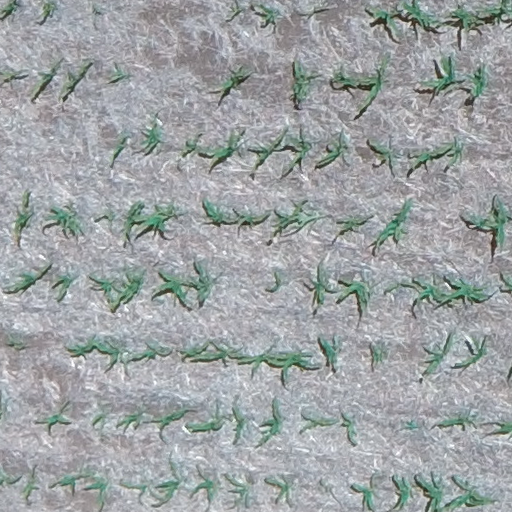planta: (231, 343, 290, 378), (371, 199, 414, 247), (355, 55, 389, 114), (270, 200, 321, 239), (262, 350, 313, 387), (386, 276, 452, 304), (107, 267, 145, 313), (141, 408, 188, 444), (199, 131, 242, 169), (436, 275, 489, 305), (420, 55, 459, 94), (250, 131, 286, 172), (153, 269, 193, 305), (186, 341, 250, 363), (421, 334, 454, 376), (135, 203, 178, 234), (337, 276, 373, 313), (120, 199, 150, 242), (91, 274, 126, 310), (46, 204, 84, 237), (455, 333, 489, 369), (257, 398, 283, 445), (410, 143, 455, 170), (289, 59, 317, 102), (136, 108, 163, 152), (185, 263, 215, 302), (446, 5, 486, 34), (93, 337, 130, 367), (214, 66, 248, 97), (316, 134, 348, 166), (59, 61, 89, 95), (307, 267, 332, 307), (30, 63, 58, 98), (368, 5, 400, 35), (184, 412, 226, 434), (287, 133, 312, 168), (201, 198, 233, 224), (465, 65, 489, 99), (113, 411, 144, 437), (64, 335, 97, 359), (331, 69, 372, 88), (437, 411, 477, 430), (178, 340, 213, 361), (51, 273, 76, 302), (130, 342, 168, 361), (368, 139, 396, 164), (229, 404, 249, 439), (367, 340, 387, 372), (177, 136, 206, 158), (318, 337, 340, 365), (442, 139, 464, 166), (335, 215, 364, 235), (231, 212, 267, 228), (302, 415, 338, 430), (108, 135, 127, 163), (340, 412, 357, 443), (41, 411, 68, 430), (257, 2, 279, 24), (269, 271, 282, 292), (110, 66, 127, 82), (91, 412, 107, 425), (404, 419, 419, 431), (103, 210, 116, 223), (230, 4, 242, 16), (476, 290, 485, 293), (204, 146, 208, 149), (272, 364, 275, 367)
